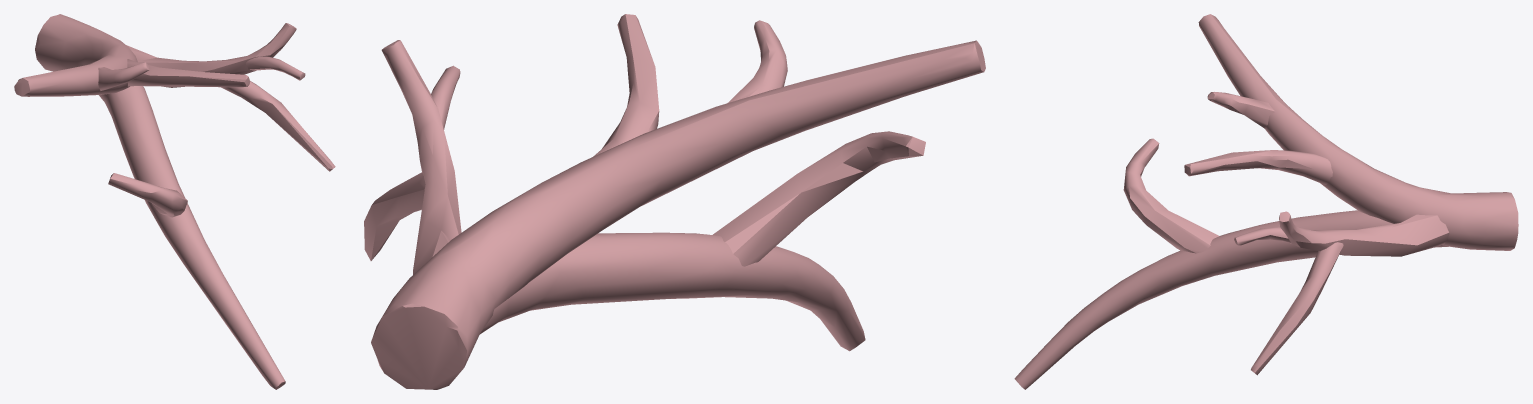
Rendered from fma68222_cx160.glb.
3 views of the same model, side by side, from view 1: azimuth 30°, elevation 25°; view 2: azimuth 150°, elevation 25°; view 3: azimuth 270°, elevation 25° (orthographic). The views are drawn at different scales.
Parts seen in each view (by area): view 1: FMA68222_CX160; view 2: FMA68222_CX160; view 3: FMA68222_CX160.
Part boxes in pixels (left/top/right/bottom): FMA68222_CX160: left=14, top=14, right=335, bottom=389; FMA68222_CX160: left=364, top=14, right=985, bottom=389; FMA68222_CX160: left=1014, top=14, right=1518, bottom=389.
Bounding box in the file's own units: 0.0607 × 0.0487 × 0.0759.
